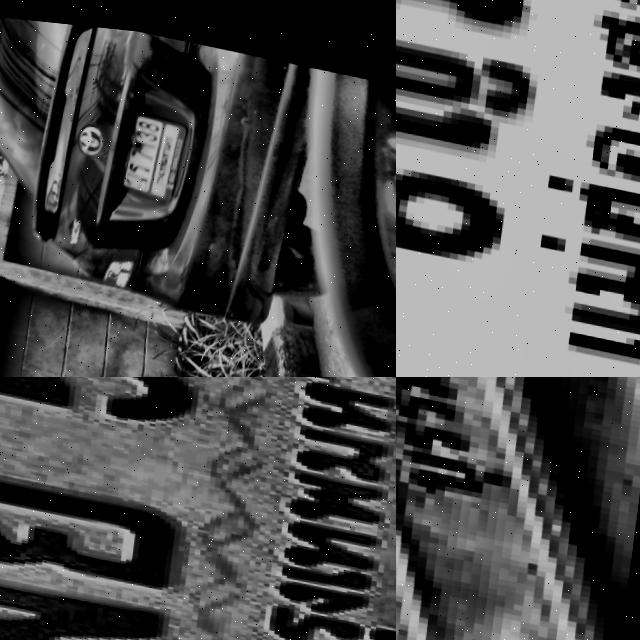license-plate: (0, 377, 396, 640), (396, 0, 640, 377), (396, 377, 640, 640), (110, 99, 196, 195)
